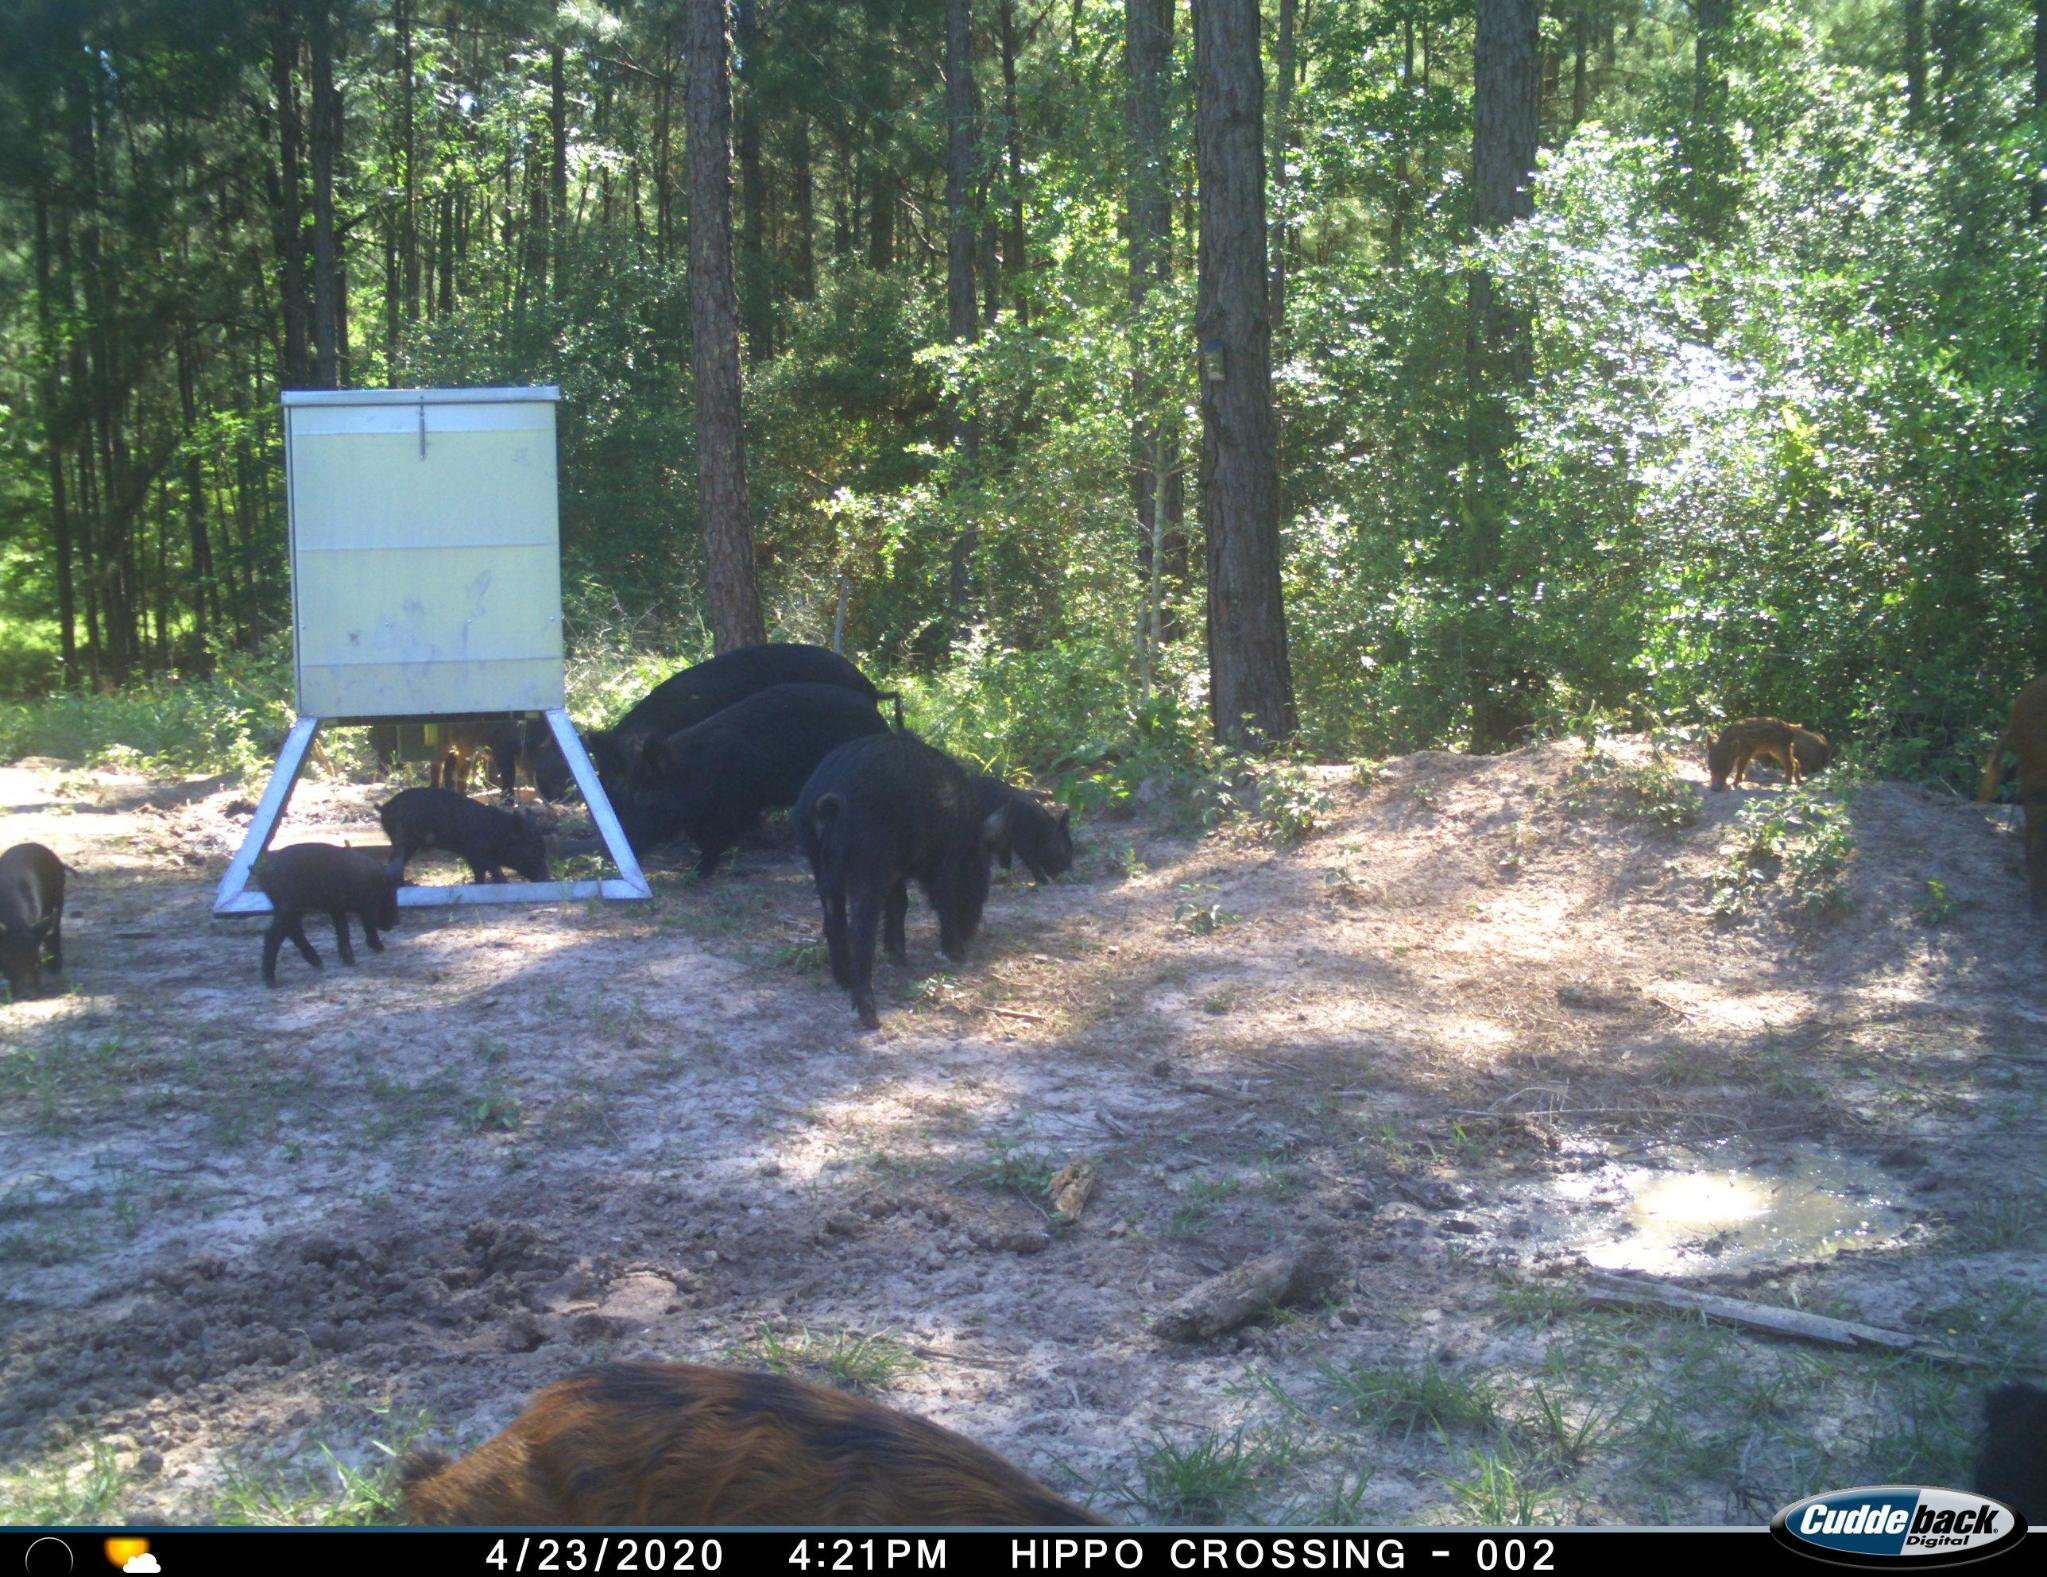Hog: (369, 1343, 1134, 1526), (795, 727, 997, 1029), (623, 682, 898, 888), (250, 840, 402, 969), (373, 785, 555, 891), (967, 765, 1080, 881), (1683, 711, 1832, 797), (0, 837, 73, 997)
